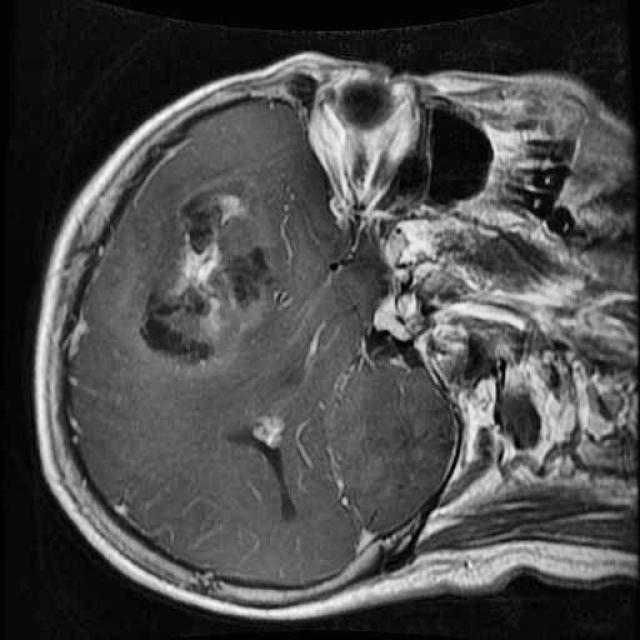Non-Tumor: (120, 156, 290, 384)
